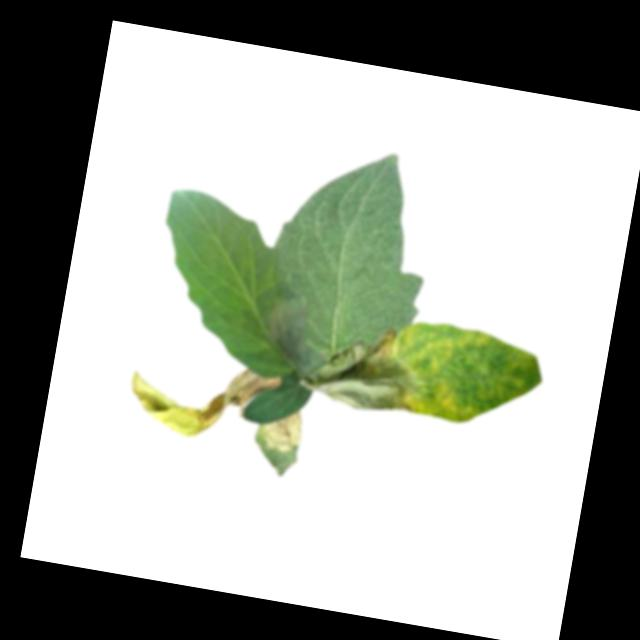Late_blight: (120, 346, 281, 450), (299, 316, 425, 418), (253, 288, 337, 382), (256, 401, 305, 455)
healthy: (260, 136, 445, 366)
